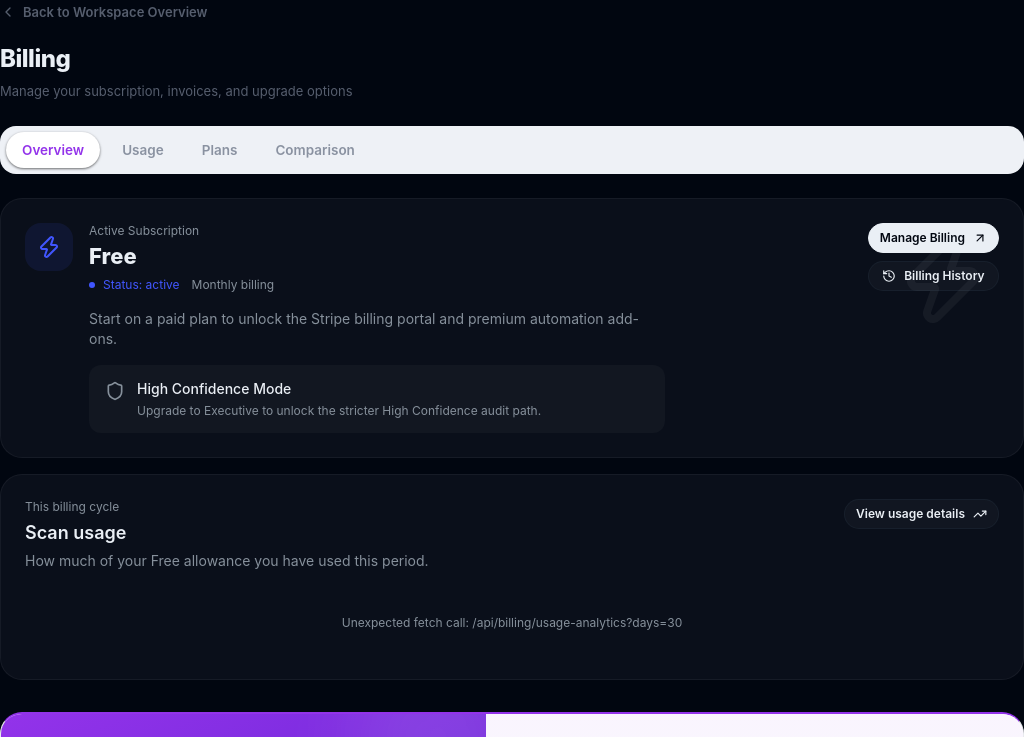
Test: BillingPage › the Executive card (SIGV2-1211) › leaves a listed plan's price, ticks and Subscribe button alone
Expected: the text "Active Subscription" is shown, [89,222,199,238]
Click the tab "Plans": (220, 150) [186,132,253,168]
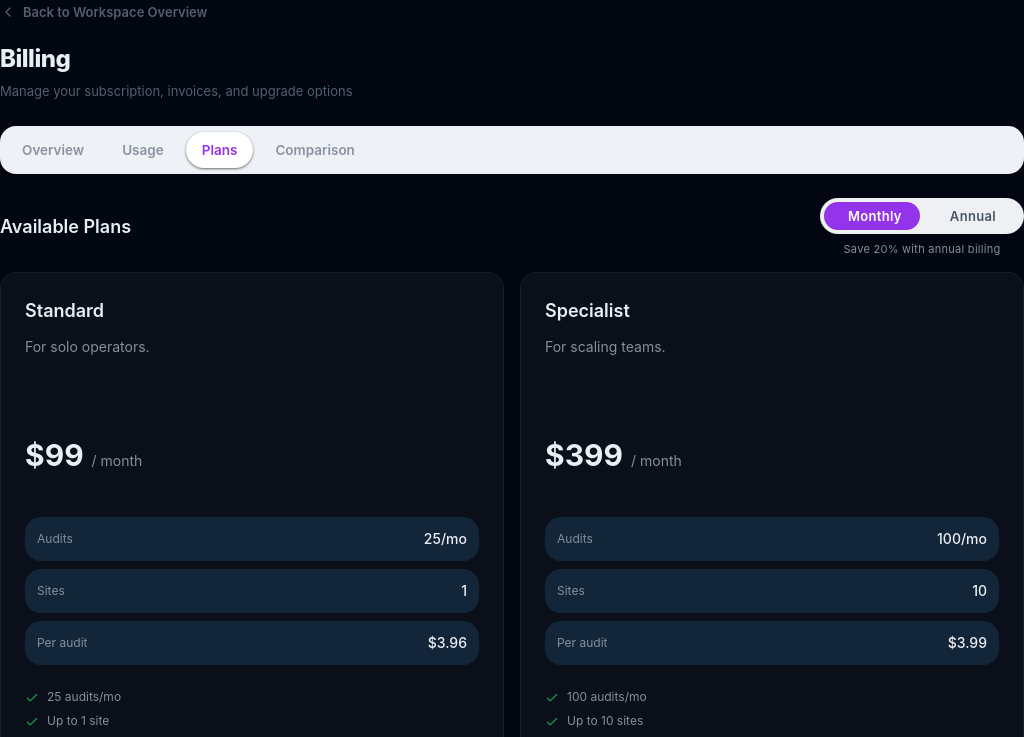
Now the text "$99" is shown, box [25,436,84,472]
Now the text "/ month" next to "$99" is shown, box [92,452,142,468]
